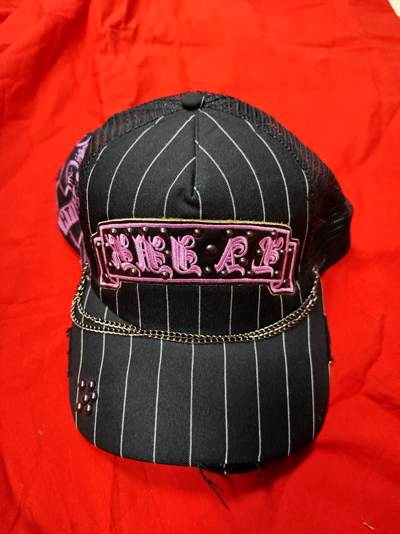Hat: (29, 96, 371, 464)
